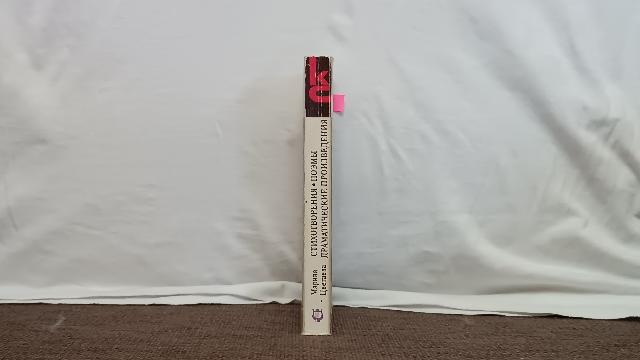book-s-spine: (301, 57, 333, 336)
